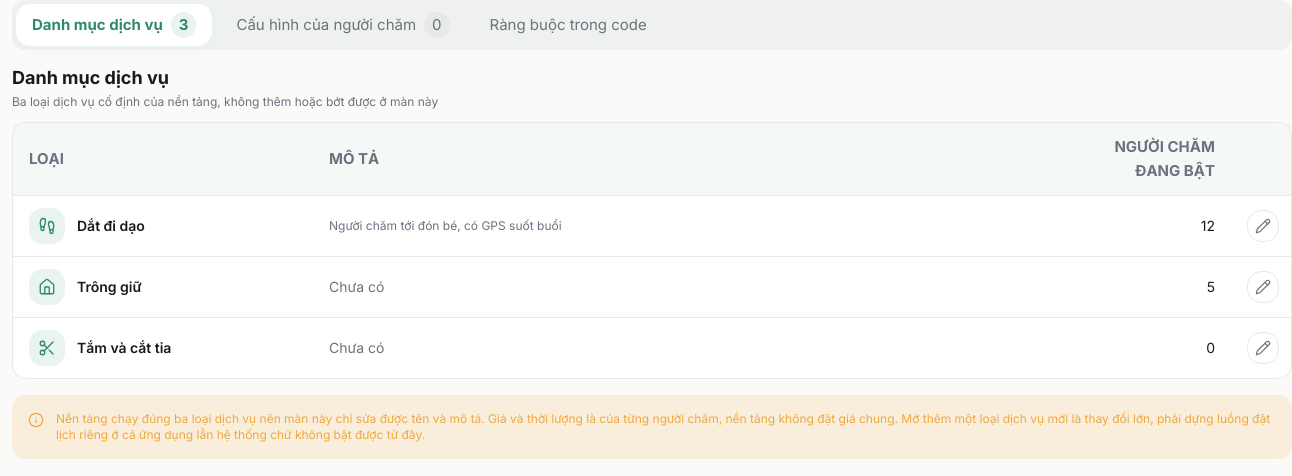
Tab ràng buộc trong code › hiện nhãn tiếng Việt và số lấy từ máy chủ, không hiện tên hằng số hay tên file
The image size is (1292, 476).
Expected: the text "Dắt đi dạo" is shown, top-left (77, 216), bottom-right (145, 236)
Click the button "Ràng buộc trong code" at (568, 25), box top-left (474, 5), bottom-right (663, 45)
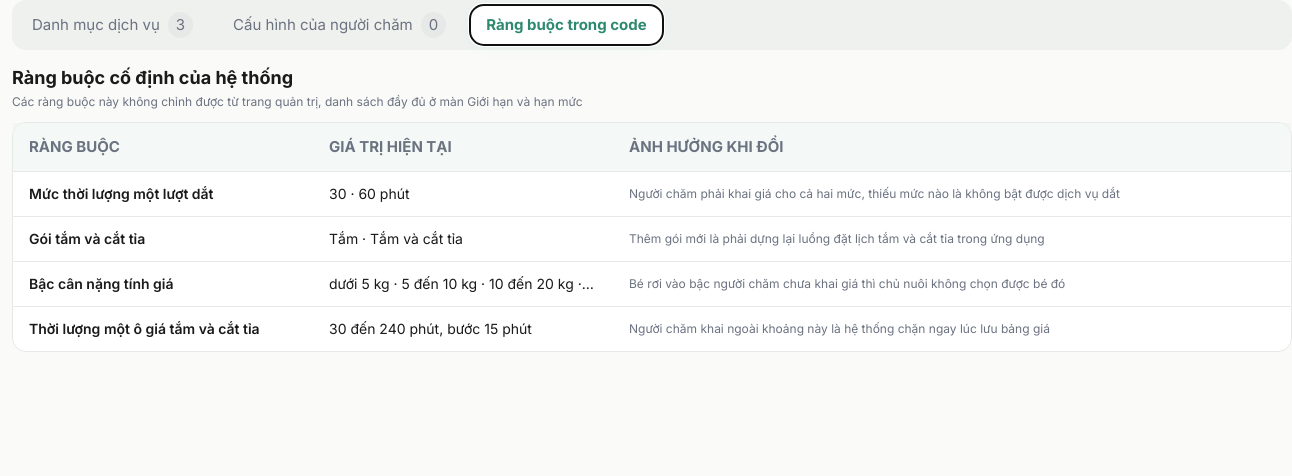
Expected: the text "Mức thời lượng một lượt dắt" is shown, top-left (29, 185), bottom-right (214, 202)
Expected: the text "30 · 60 phút" is shown, top-left (329, 185), bottom-right (410, 202)
Expected: the text "Tắm · Tắm và cắt tỉa" is shown, top-left (329, 230), bottom-right (463, 247)
